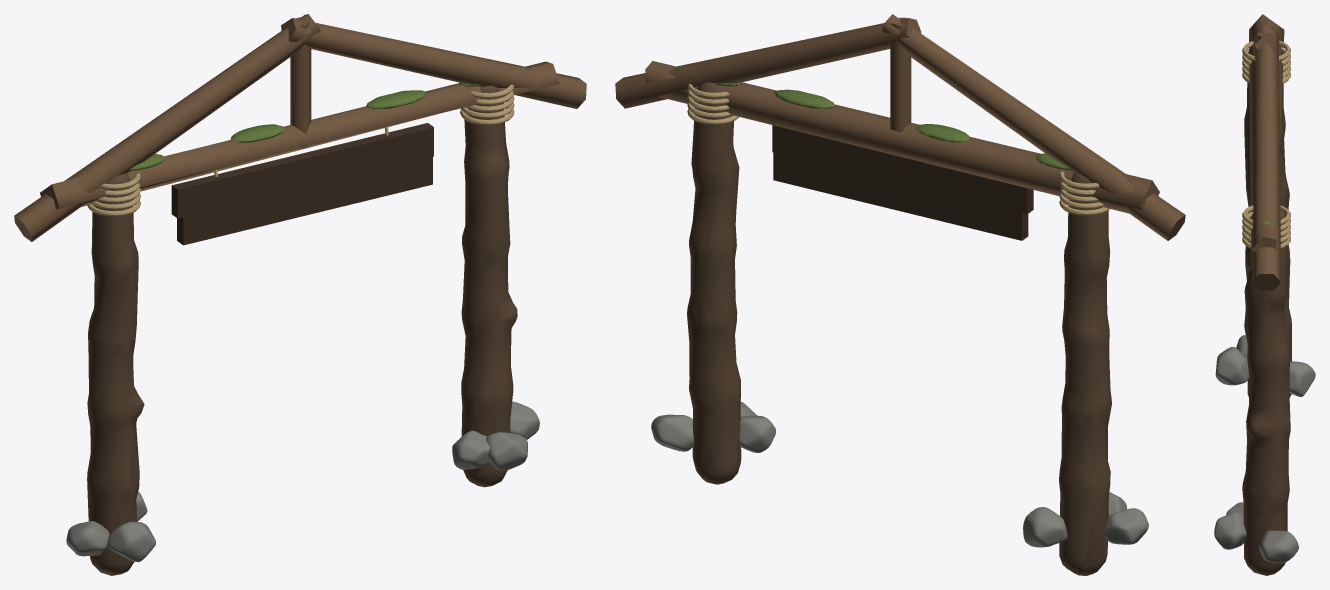
The model's file is gate.glb.
3 renders of one model, left to right at view 1: azimuth 30°, elevation 25°; view 2: azimuth 150°, elevation 25°; view 3: azimuth 270°, elevation 25°, orthographic. The views are drawn at different scales.
Parts seen in each view (by area): view 1: bark_0, bark_1, beam_2, board_16, beam_3, beam_4, board_17, beam_5, stone_20, stone_23, stone_21, stone_25 (+2 smaller); view 2: bark_1, bark_0, beam_2, beam_3, beam_4, board_17, board_16, beam_5, stone_22, stone_24, stone_21, stone_25 (+1 smaller); view 3: bark_1, beam_4, bark_0, beam_2, stone_24, stone_20, stone_23, stone_22, beam_3, rope_10, rope_15, stone_21 (+1 smaller).
Part boxes in pixels (x1,y1,x2,y2): bark_0: (87,173,144,575); bark_1: (461,85,517,487); beam_2: (40,61,559,209); board_16: (171,123,433,218); beam_3: (14,14,320,241); beam_4: (281,18,586,108); board_17: (177,156,432,245); beam_5: (290,17,311,148); stone_20: (108,521,155,562); stone_23: (486,432,527,470); stone_21: (66,521,109,556); stone_25: (452,430,489,469); bark_1: (687,82,741,484); bark_0: (1059,173,1111,575); beam_2: (645,61,1159,213); beam_3: (881,14,1185,240); beam_4: (615,18,921,108); board_17: (773,152,1028,240); board_16: (772,125,1033,214); beam_5: (890,17,911,132); stone_22: (1023,507,1067,547); stone_24: (651,414,693,451); stone_21: (1104,508,1148,544); stone_25: (739,415,775,452); bark_1: (1242,207,1290,575); beam_4: (1252,25,1280,290); bark_0: (1244,44,1291,397); beam_2: (1249,14,1284,252); stone_24: (1259,530,1298,563); stone_20: (1215,347,1249,385); stone_23: (1214,512,1246,549); stone_22: (1289,361,1315,396); beam_3: (1252,26,1280,51); rope_10: (1242,41,1290,60); rope_15: (1242,205,1290,224); stone_21: (1236,335,1247,357).
Size of the model in its own units: 5.29 by 4.6 by 0.9145.
